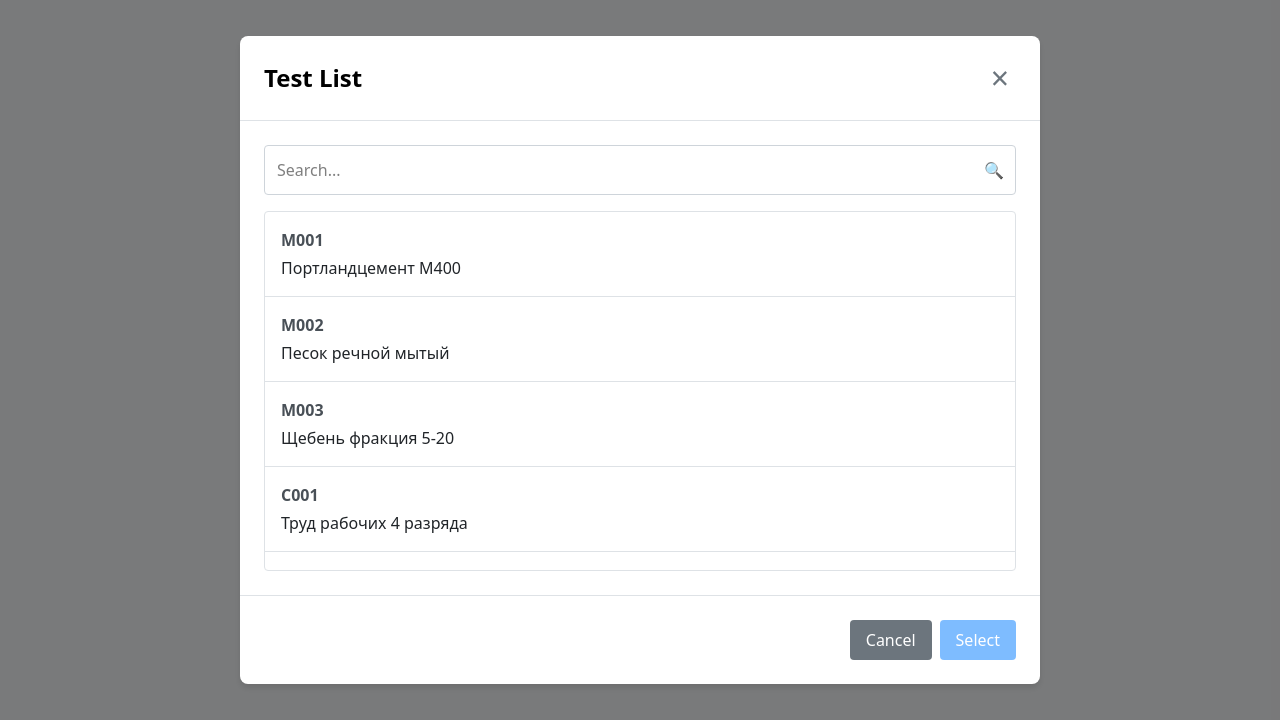
ListForm - Substring Entry Feature › should filter items by code substring
The width and height of the screenshot is (1280, 720).
Type "M00" into the field with class "search-input" at (640, 170), box [264, 145, 1016, 195]
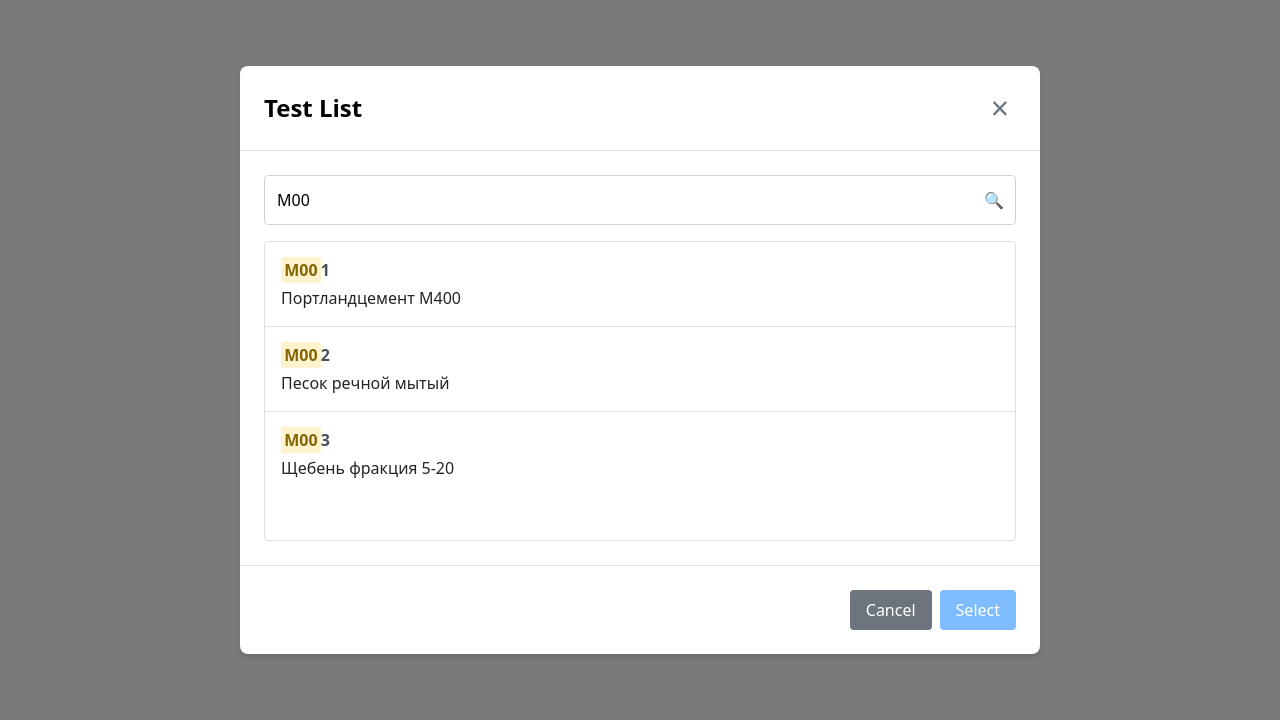
Expected: the number of elements with class "item-row" is 3, [265, 242, 1015, 327]; [265, 327, 1015, 412]; [281, 427, 454, 479]
